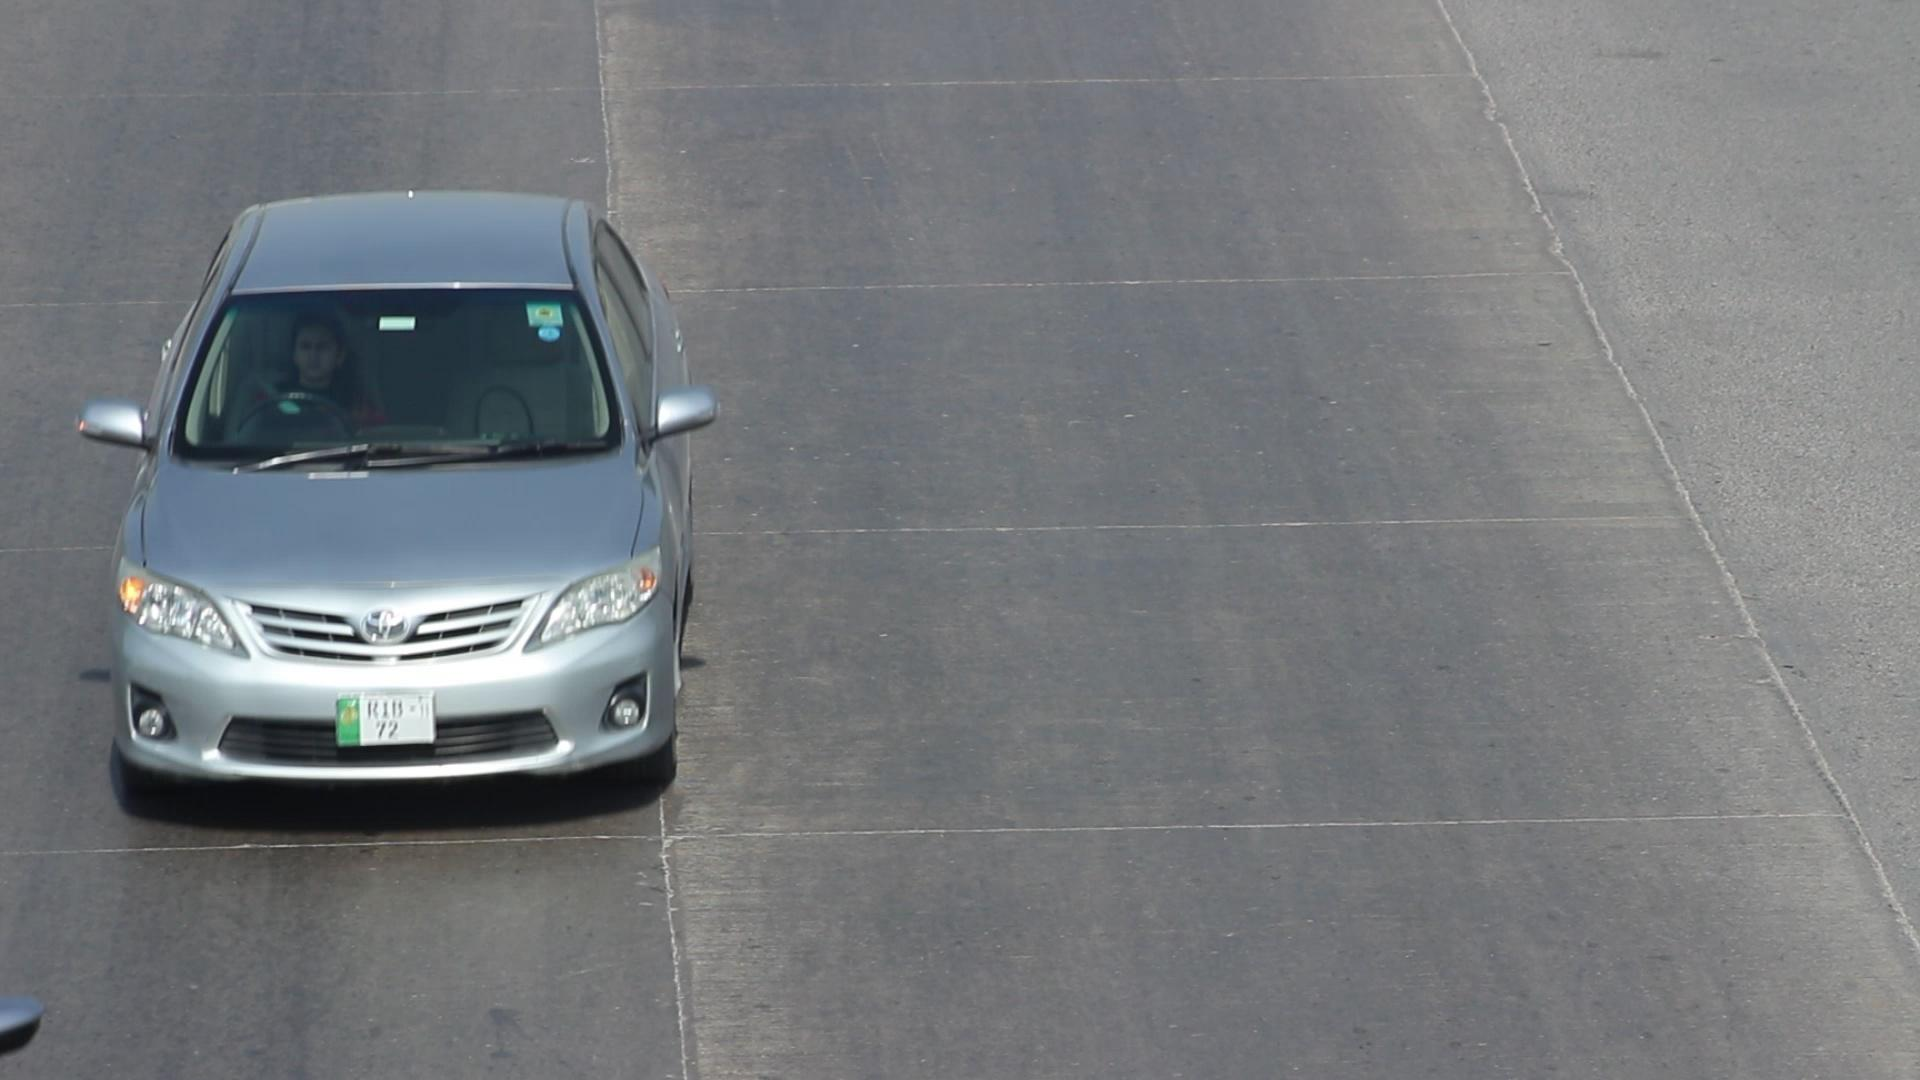windshield: (144, 277, 641, 484)
